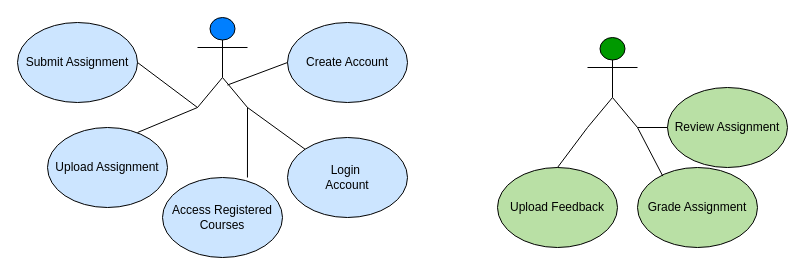
The diagram is 805 pixels wide and 275 high, and some of its shapes have lost their labels. Here are the shapes that lost their labels. From the top down, the centre of each, then its label:
At (222,62): "Student".
At (612,82): "Tutor".
